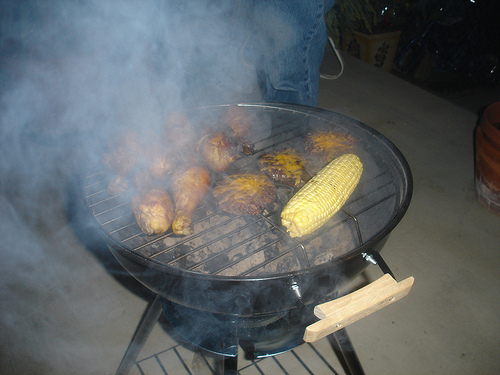corn: (279, 152, 364, 238)
